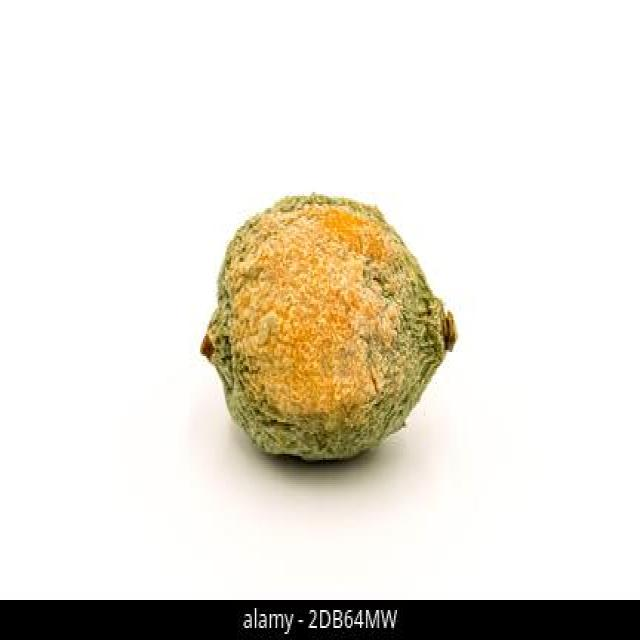Rotten: (201, 191, 456, 469)
